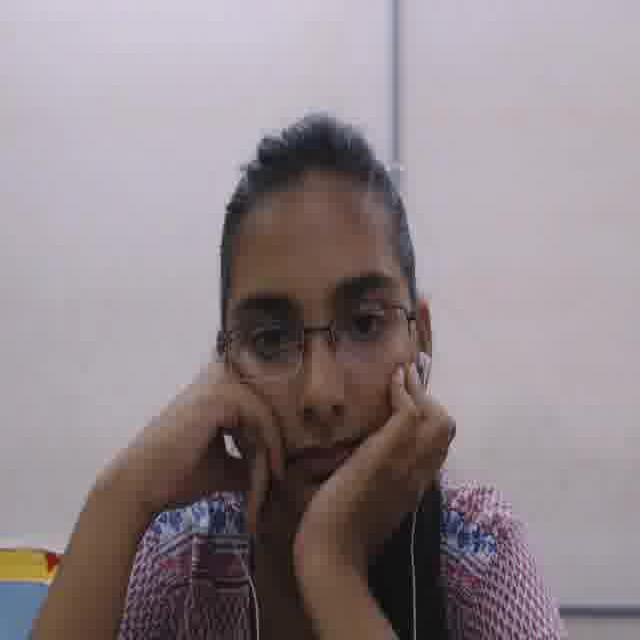Boredom: (221, 208, 411, 529)
